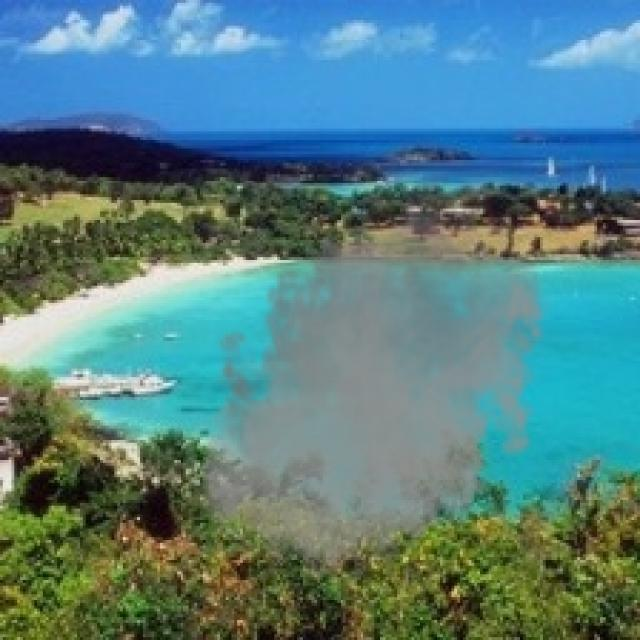smoke: (194, 183, 557, 588)
